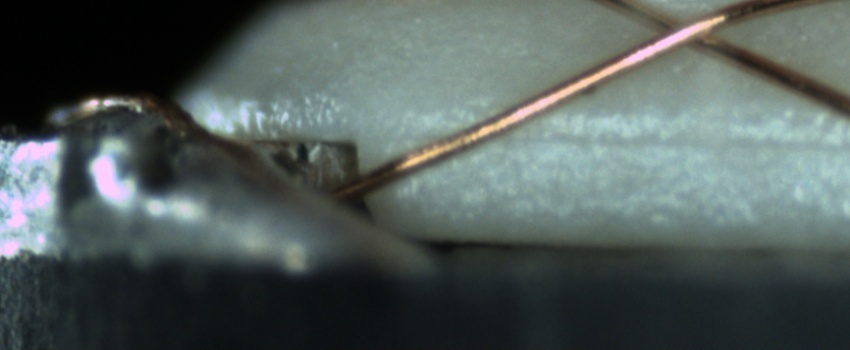CL: (621, 2, 741, 58)
DL: (411, 108, 850, 173)
TE: (51, 79, 191, 125)
